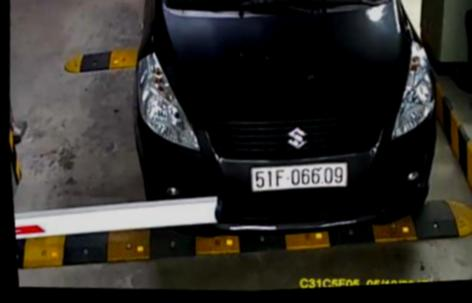License_Plate: (245, 151, 354, 203)
